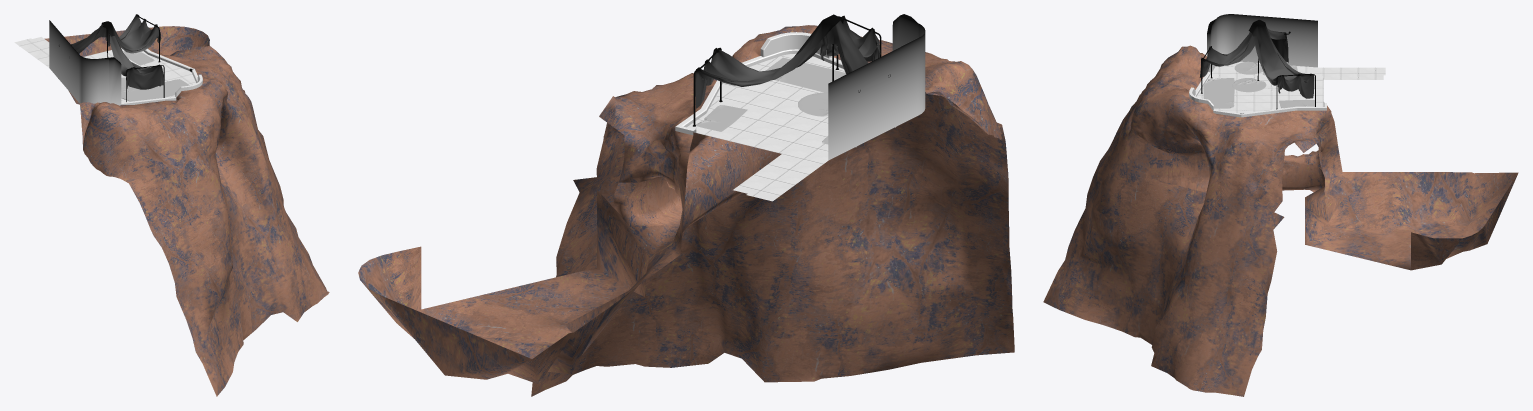
The model's file is StreetBazaar.fbx.
The picture shows the model from 3 angles, left to right: view 1: azimuth 30°, elevation 25°; view 2: azimuth 150°, elevation 25°; view 3: azimuth 270°, elevation 25°; orthographic projection. The views are drawn at different scales.
Parts seen in each view (by area): view 1: StreetCliffBase, StreetBazaarWall, StreetBazaarCloth, StreetBazaarFloors, StreetBazaarRugs; view 2: StreetCliffBase, StreetBazaarWall, StreetBazaarFloors, StreetBazaarCloth, StreetBazaarRugs; view 3: StreetCliffBase, StreetBazaarWall, StreetBazaarFloors, StreetBazaarCloth, StreetBazaarRugs.
Boxes of the visible parts, x1=… form: StreetCliffBase: x1=44, y1=26, x2=329, y2=396; StreetBazaarWall: x1=49, y1=20, x2=202, y2=105; StreetBazaarCloth: x1=71, y1=14, x2=164, y2=89; StreetBazaarFloors: x1=14, y1=37, x2=195, y2=102; StreetBazaarRugs: x1=58, y1=51, x2=189, y2=101; StreetCliffBase: x1=358, y1=25, x2=1014, y2=396; StreetBazaarWall: x1=675, y1=14, x2=925, y2=160; StreetBazaarFloors: x1=687, y1=53, x2=845, y2=201; StreetBazaarCloth: x1=695, y1=14, x2=880, y2=108; StreetBazaarRugs: x1=695, y1=57, x2=896, y2=147; StreetCliffBase: x1=1043, y1=45, x2=1518, y2=396; StreetBazaarWall: x1=1189, y1=14, x2=1326, y2=117; StreetBazaarFloors: x1=1196, y1=61, x2=1385, y2=113; StreetBazaarCloth: x1=1199, y1=19, x2=1314, y2=98; StreetBazaarRugs: x1=1203, y1=61, x2=1314, y2=108.
Bounding box in the file's own units: 3151 × 3417 × 5184.
